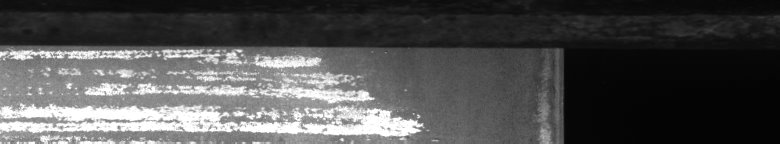kb: (4, 40, 439, 136)
